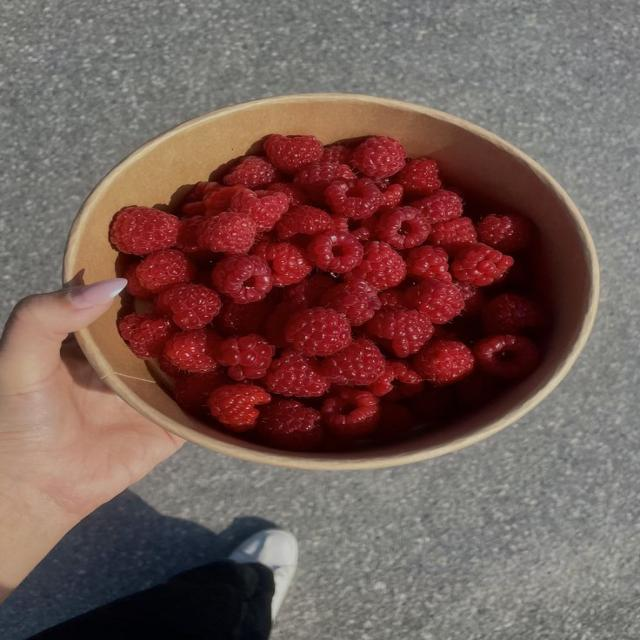raspberry: (110, 207, 179, 255), (258, 400, 324, 450), (366, 310, 433, 358), (285, 308, 351, 356), (154, 284, 221, 329), (265, 350, 329, 397), (322, 338, 385, 385), (212, 256, 273, 304), (208, 384, 270, 431), (321, 387, 379, 437), (347, 241, 406, 290), (474, 335, 539, 379), (414, 340, 474, 386), (322, 280, 380, 326), (218, 334, 275, 380), (406, 279, 464, 324), (451, 244, 513, 286), (254, 242, 312, 286), (136, 250, 196, 292), (118, 314, 175, 358), (482, 294, 544, 334), (231, 190, 289, 232), (174, 372, 230, 415), (165, 329, 219, 373), (325, 179, 383, 219), (376, 207, 431, 249), (264, 134, 323, 173), (307, 232, 363, 273), (199, 213, 256, 253), (215, 296, 273, 335), (294, 162, 356, 198), (351, 137, 406, 177), (477, 214, 533, 253), (367, 361, 422, 397), (454, 371, 505, 408), (276, 205, 331, 239), (428, 217, 477, 255), (408, 385, 457, 422), (224, 156, 279, 188), (283, 274, 335, 307), (395, 158, 440, 195), (412, 190, 462, 223), (374, 402, 416, 441), (265, 302, 300, 347), (406, 246, 451, 281), (180, 182, 220, 217), (204, 184, 246, 214), (331, 214, 376, 242), (123, 263, 155, 300), (175, 216, 206, 254), (267, 183, 308, 208), (456, 283, 486, 317), (367, 362, 394, 396), (388, 361, 420, 384), (348, 218, 376, 242), (158, 355, 186, 379), (378, 288, 406, 311), (321, 145, 352, 164), (379, 184, 403, 206), (180, 201, 206, 218), (433, 325, 460, 340), (330, 214, 349, 231), (371, 177, 391, 191)
